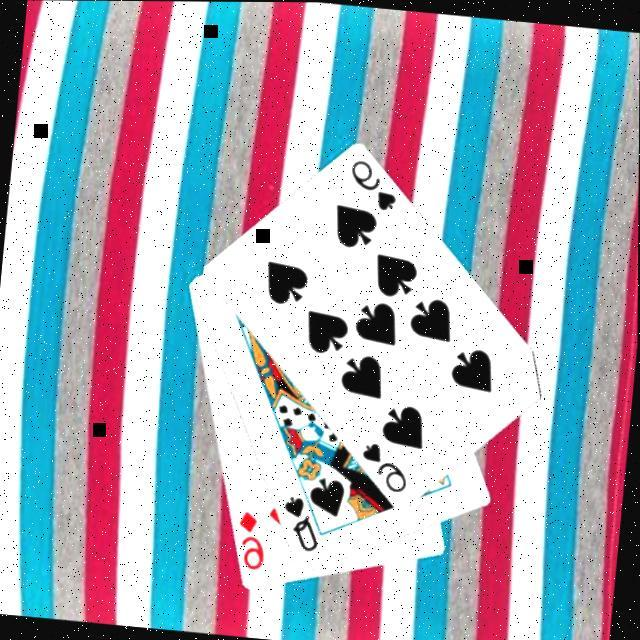9D: (231, 505, 270, 572)
9S: (343, 153, 402, 213), (354, 436, 413, 495)
QS: (276, 489, 325, 553)
